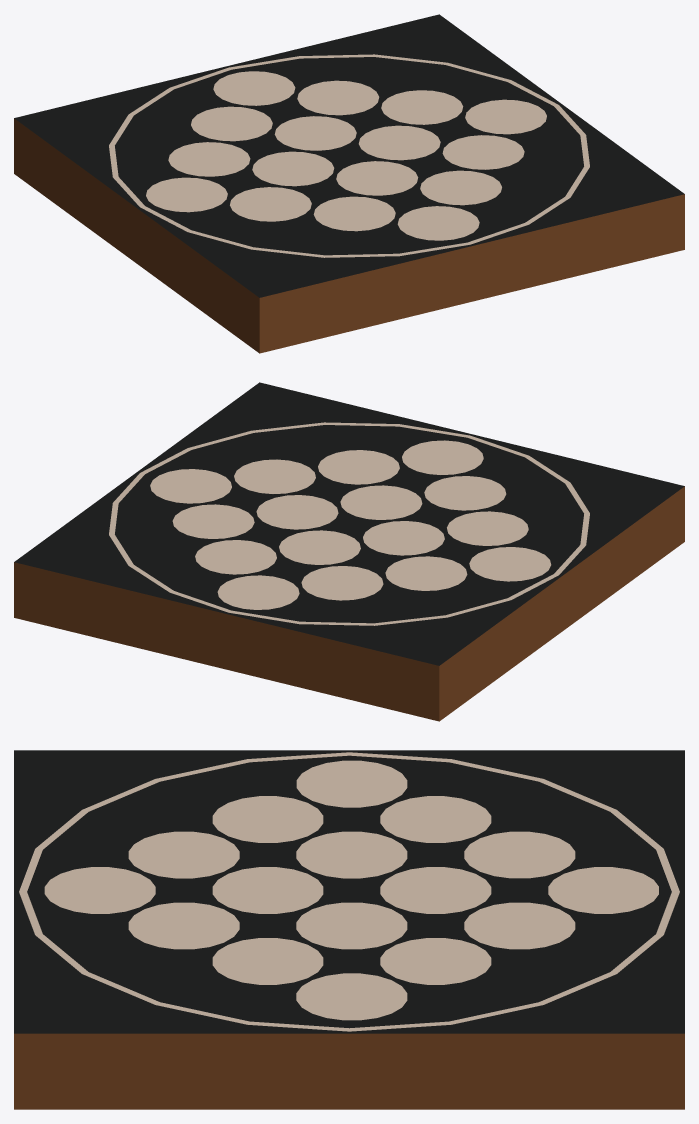
The model's file is stage.fbx.
The picture shows the model from 3 angles, top to bottom: view 1: azimuth 30°, elevation 25°; view 2: azimuth 150°, elevation 25°; view 3: azimuth 270°, elevation 25°; orthographic projection. The views are drawn at different scales.
Visible parts, largest first — view 1: obj1, obj4, obj6, obj3, obj2; view 2: obj1, obj6, obj4, obj2, obj3; view 3: obj1, obj3, obj2, obj4, obj6.
Boxes of the visible parts, <box> form: obj1: <box>14,14,684,353</box>; obj4: <box>146,177,479,240</box>; obj6: <box>213,71,546,134</box>; obj3: <box>168,142,501,205</box>; obj2: <box>191,106,524,169</box>; obj1: <box>14,382,684,721</box>; obj6: <box>150,469,299,609</box>; obj4: <box>402,440,551,581</box>; obj2: <box>234,459,383,600</box>; obj3: <box>318,450,467,590</box>; obj1: <box>14,750,684,1109</box>; obj3: <box>128,796,491,949</box>; obj2: <box>212,831,575,984</box>; obj4: <box>44,760,407,913</box>; obj6: <box>296,867,658,1020</box>.
Size of the model in its own units: 200 by 25.03 by 200.
